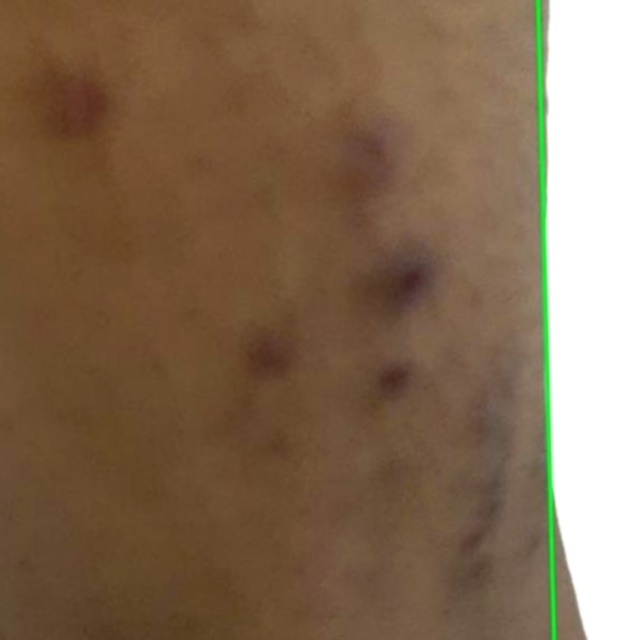Contact Dermatitis: (538, 0, 639, 639)
